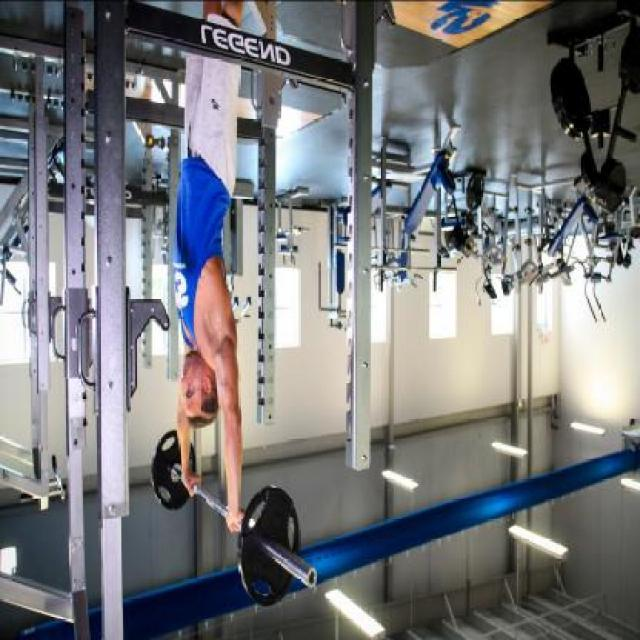Barbell: (302, 561, 321, 597)
